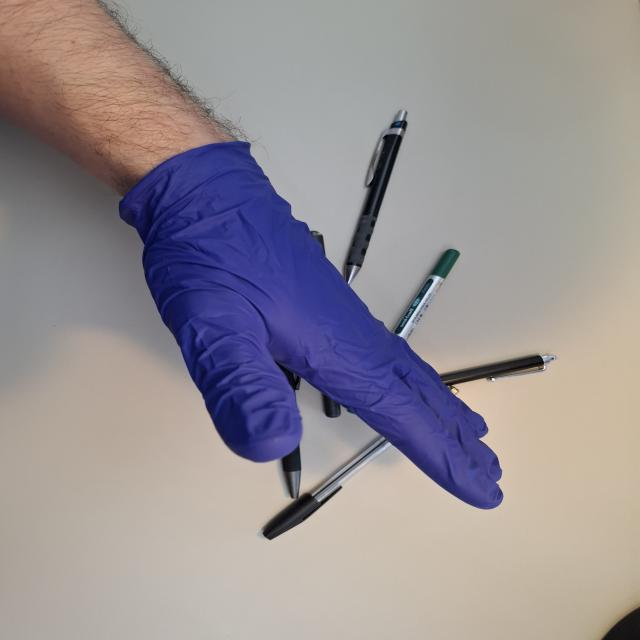glove_on: (113, 139, 507, 513)
